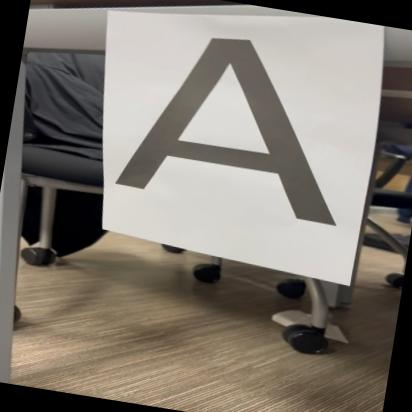seat: (96, 14, 384, 234)
